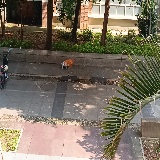fire: (64, 57, 74, 66)
